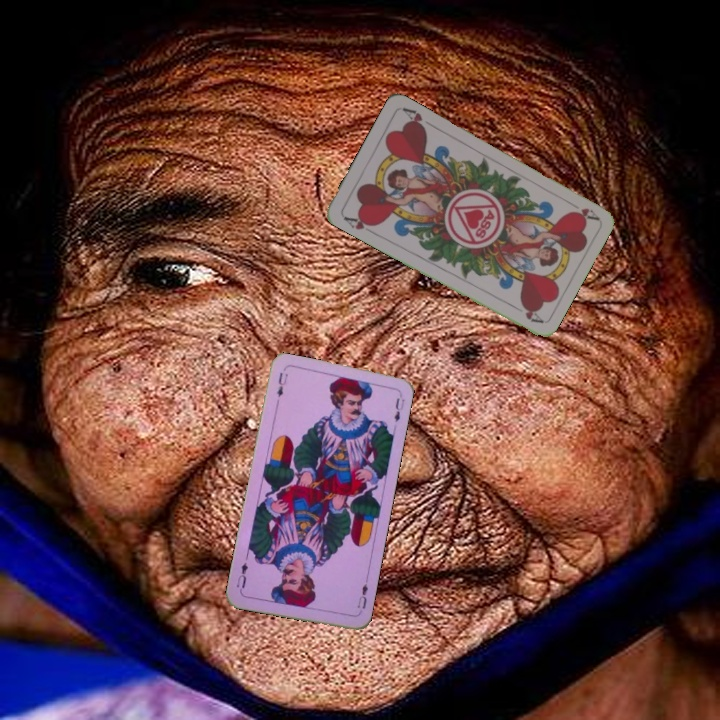EU: (353, 575, 371, 611), (273, 368, 290, 400)
HA: (563, 197, 601, 223), (339, 211, 379, 232)
